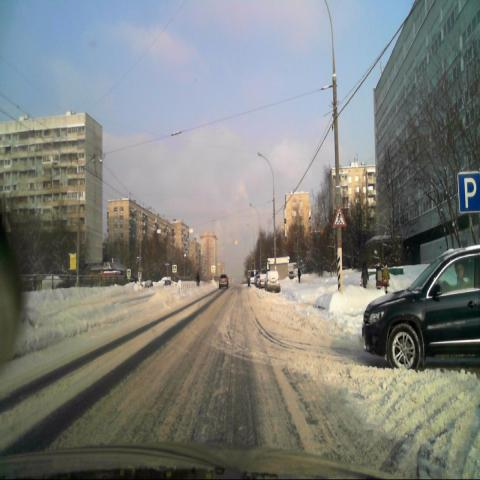6_4: (456, 171, 480, 212)
